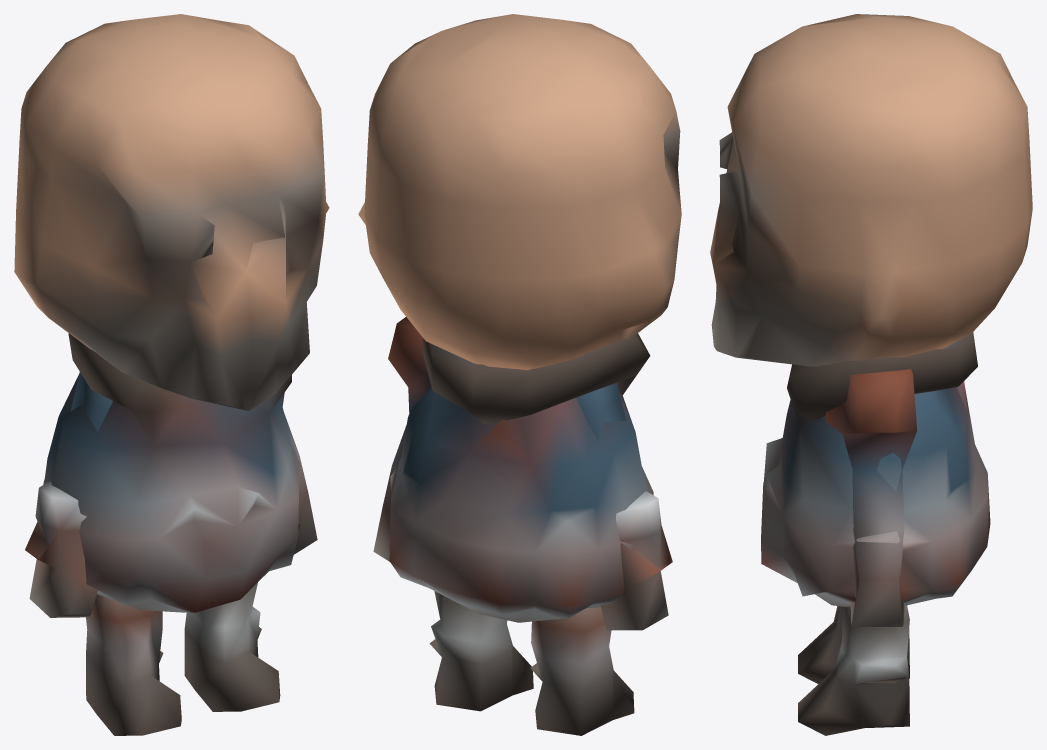
Rendered from char2-nam-0.glb.
3 renders of one model, left to right at view 1: azimuth 30°, elevation 25°; view 2: azimuth 150°, elevation 25°; view 3: azimuth 270°, elevation 25°, orthographic. The views are drawn at different scales.
Parts seen in each view (by area): view 1: char; view 2: char; view 3: char.
Part boxes in pixels (x1,y1,x2,y2): char: (14,14,329,735); char: (358,14,681,735); char: (710,14,1032,735).
Size of the model in its own units: 1.04 by 2.15 by 0.9557.
